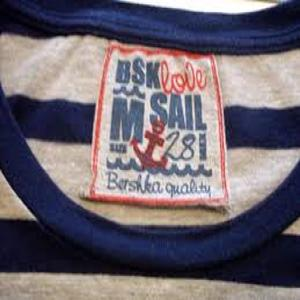bershka: (99, 168, 167, 205), (110, 54, 165, 91)
